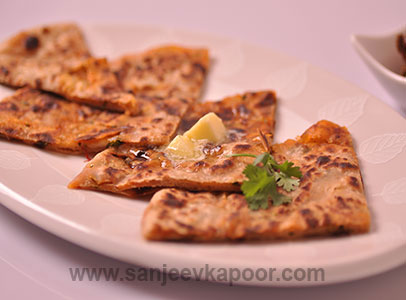aloo_paratha: (1, 19, 370, 242)
